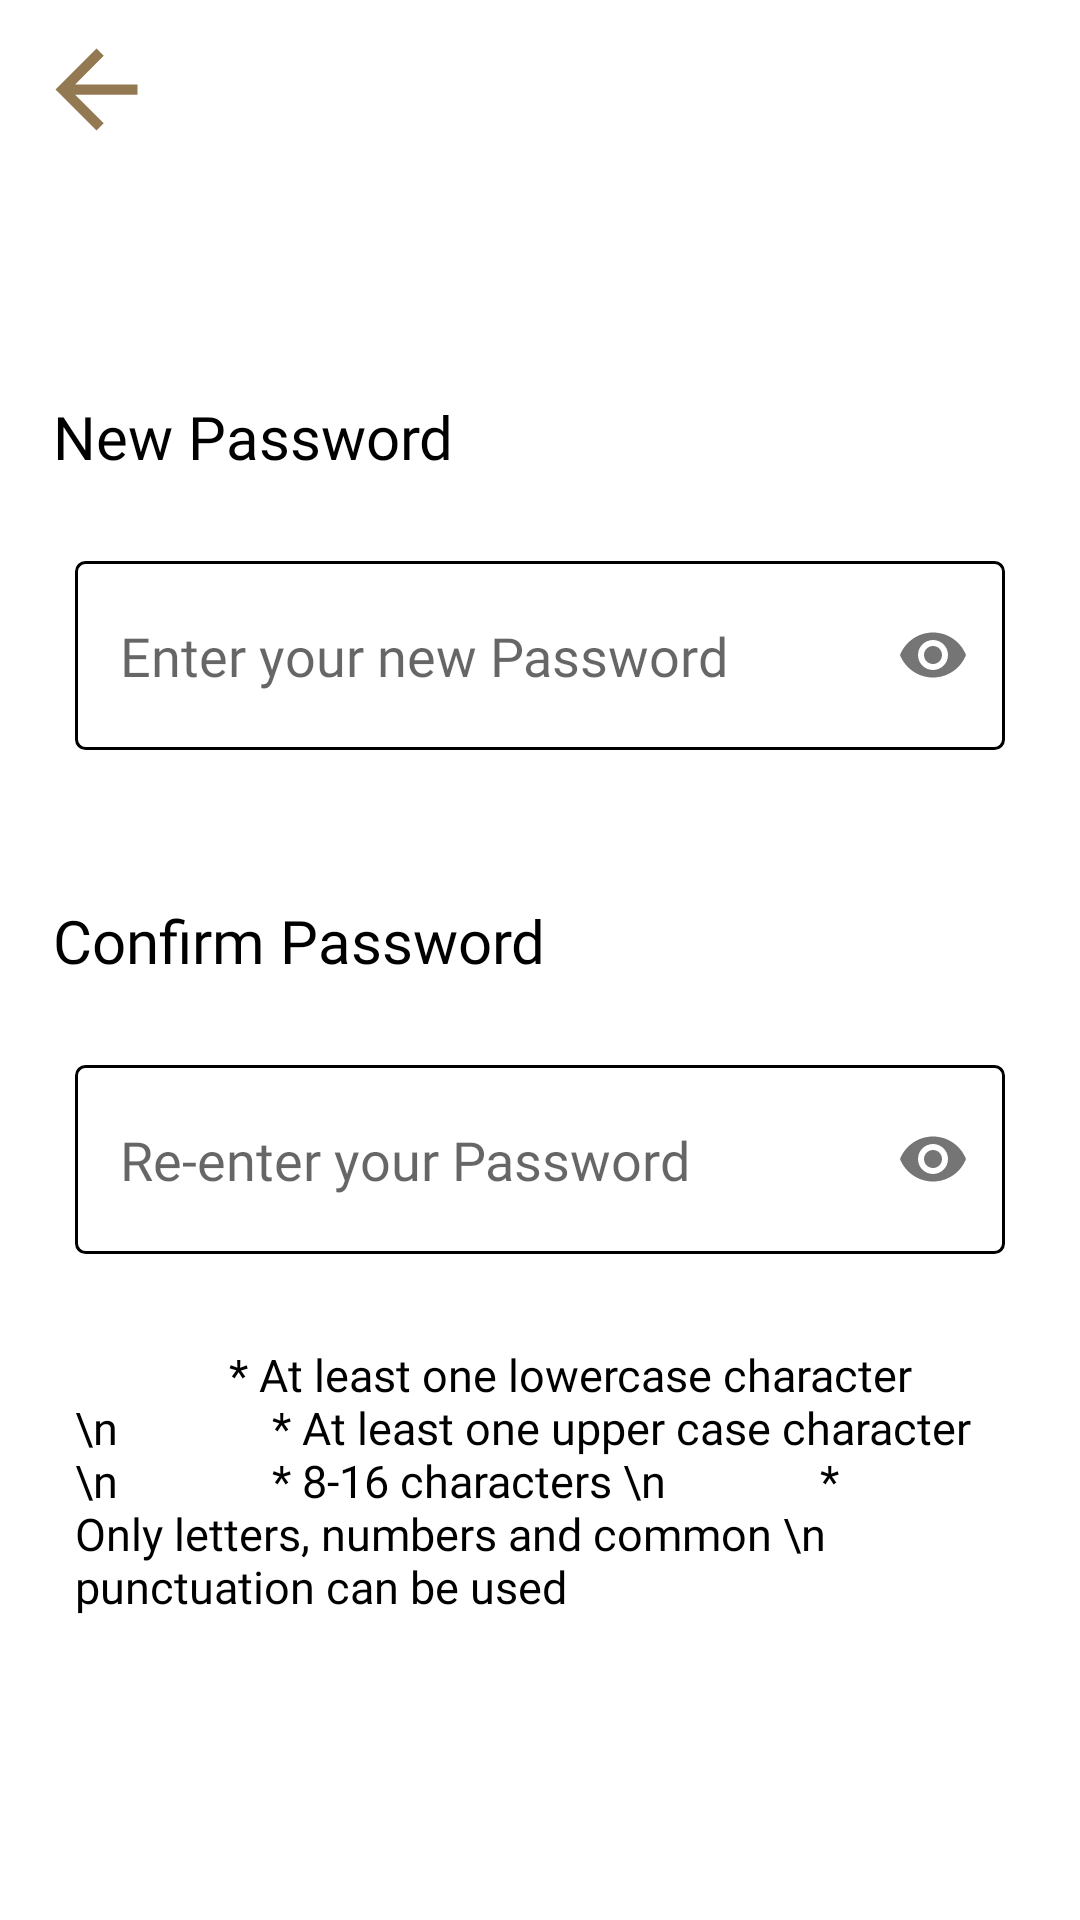

Icon click points for this 1080x1920 phone screenshot, format point (x, y):
back: point (96, 89)
